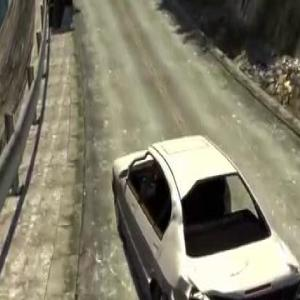severe: (43, 0, 75, 34)
